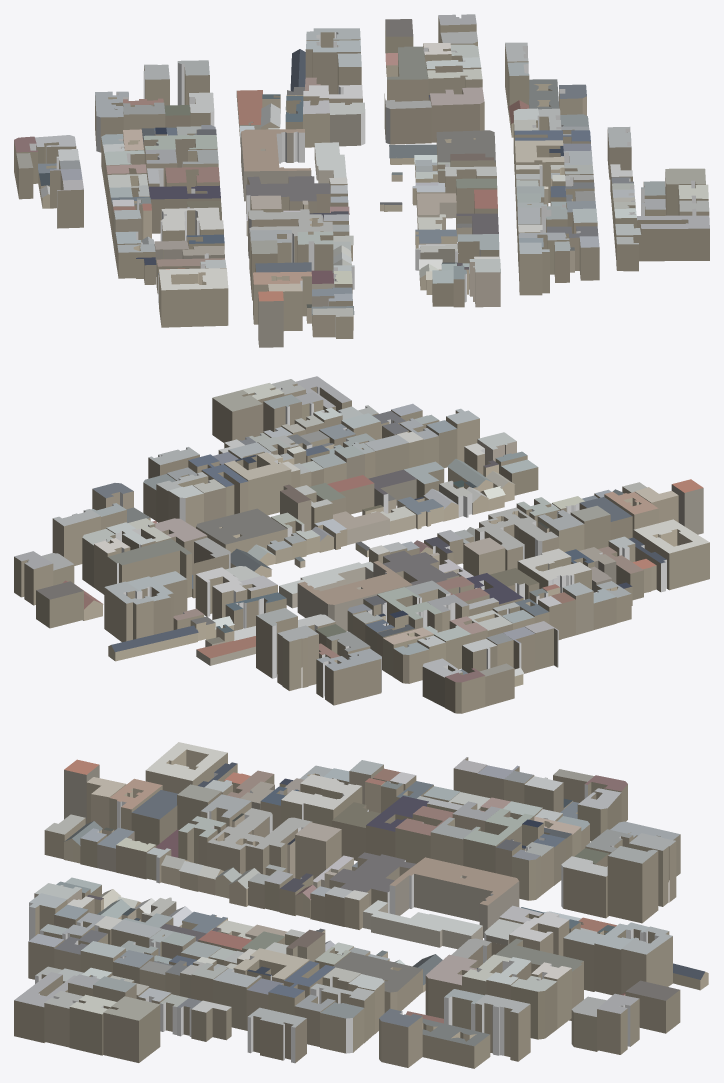
The picture shows the model from 3 angles, top to bottom: view 1: azimuth 30°, elevation 25°; view 2: azimuth 150°, elevation 25°; view 3: azimuth 270°, elevation 25°; orthographic projection. The views are drawn at different scales.
Parts seen in each view (by area): view 1: tuile; view 2: tuile; view 3: tuile.
Part boxes in pixels (x1,y1,x2,y2): tuile: (14, 14, 709, 347); tuile: (14, 376, 709, 713); tuile: (14, 742, 708, 1068).
Bounding box in the file's own units: 276 × 28.28 × 283.
